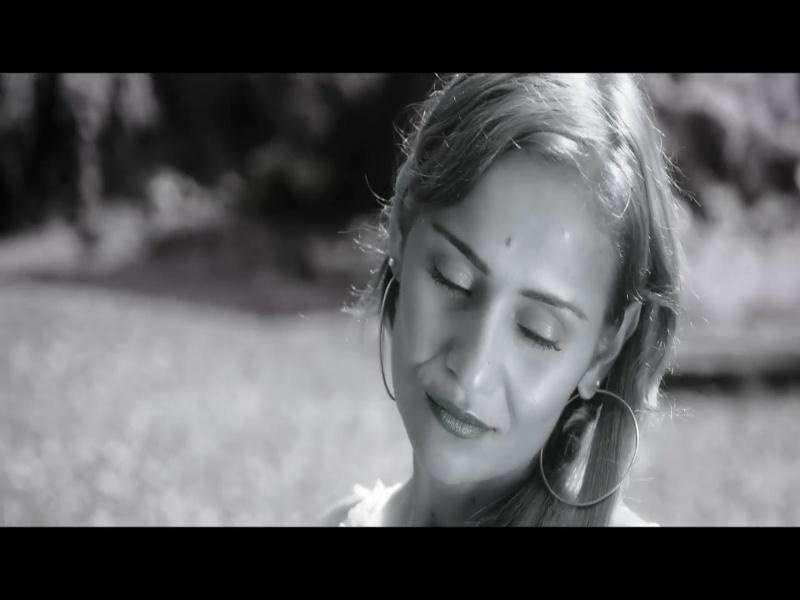TsisyArotava: (363, 83, 658, 508)
